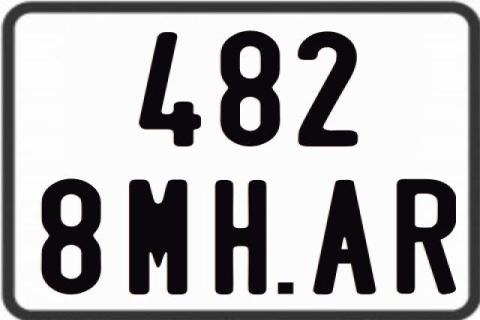0: (299, 29, 364, 148), (40, 179, 105, 297), (219, 29, 283, 147), (137, 31, 199, 146)
A: (313, 180, 378, 294)
H: (213, 179, 264, 297)
M: (129, 179, 192, 295)
R: (394, 178, 453, 298)
